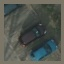car: (18, 23, 47, 47), (28, 40, 57, 61)
